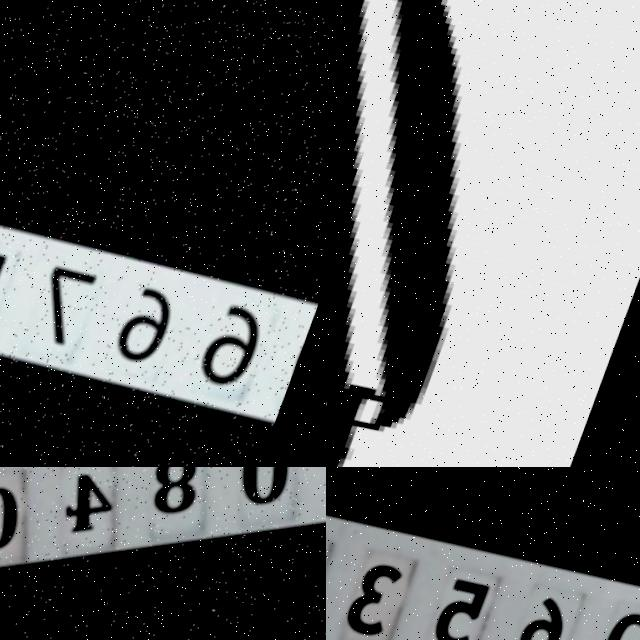0: (214, 467, 326, 546), (0, 467, 60, 581), (591, 598, 640, 640)
3: (340, 551, 422, 640)
4: (38, 467, 155, 570)
5: (427, 564, 511, 640), (0, 239, 29, 341)
6: (195, 298, 290, 416), (113, 279, 200, 388), (513, 582, 592, 640)
7: (27, 256, 117, 369)
8: (129, 467, 240, 550)
9: (326, 532, 341, 635)
Q: (326, 0, 599, 467)
